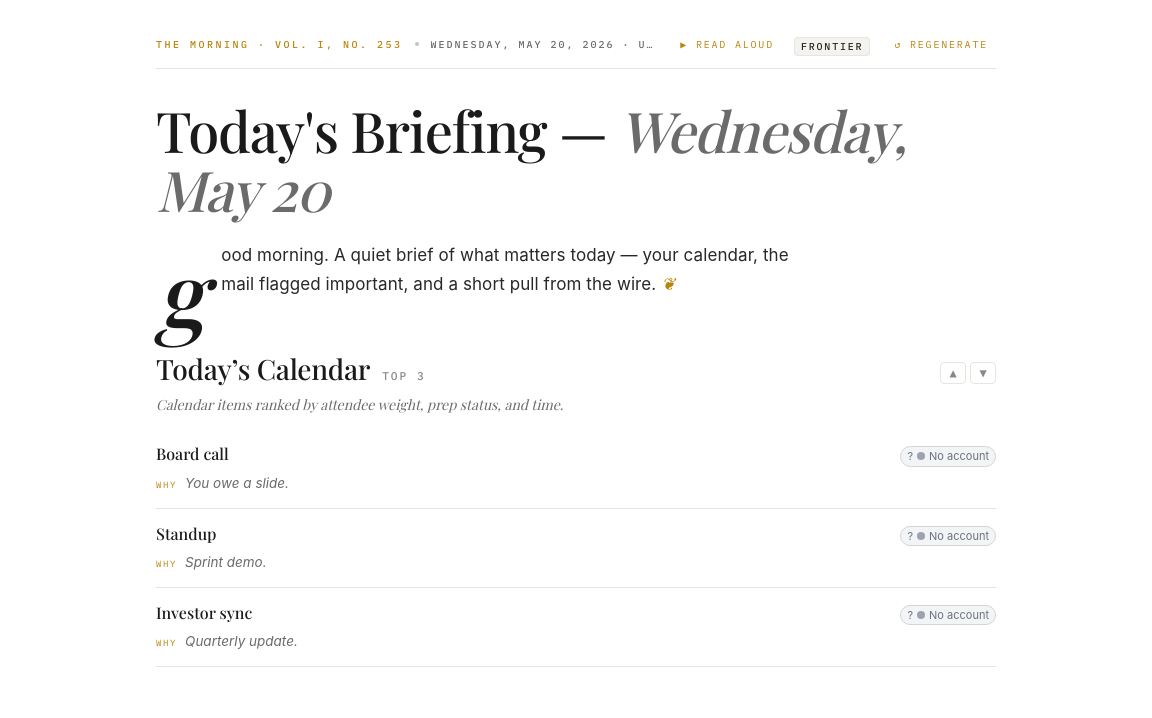
Test case: BriefingScreen › Case 11 — Regenerate error path surfaces inline alert (UAT Gap 8)
This screenshot has width=1152, height=718.
Click the button with test id "briefing-regenerate-btn": (941, 44) [886, 32, 996, 56]
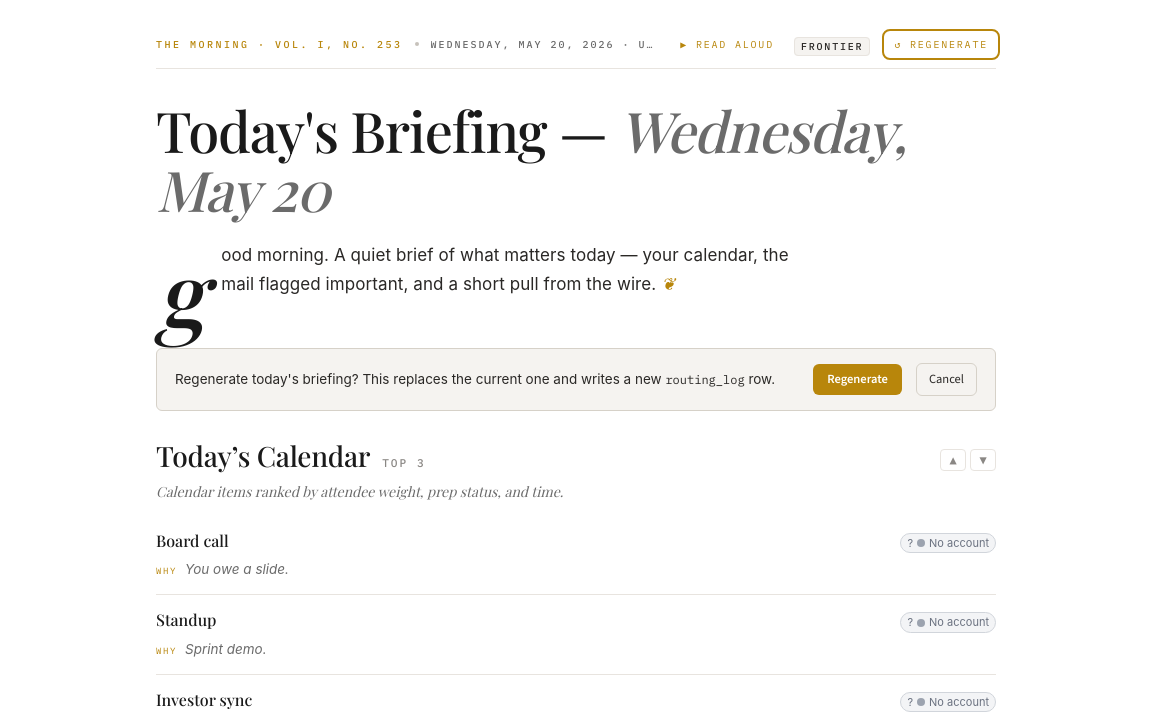
Click the button with test id "briefing-regenerate-confirm-btn": (858, 380) [813, 364, 902, 395]
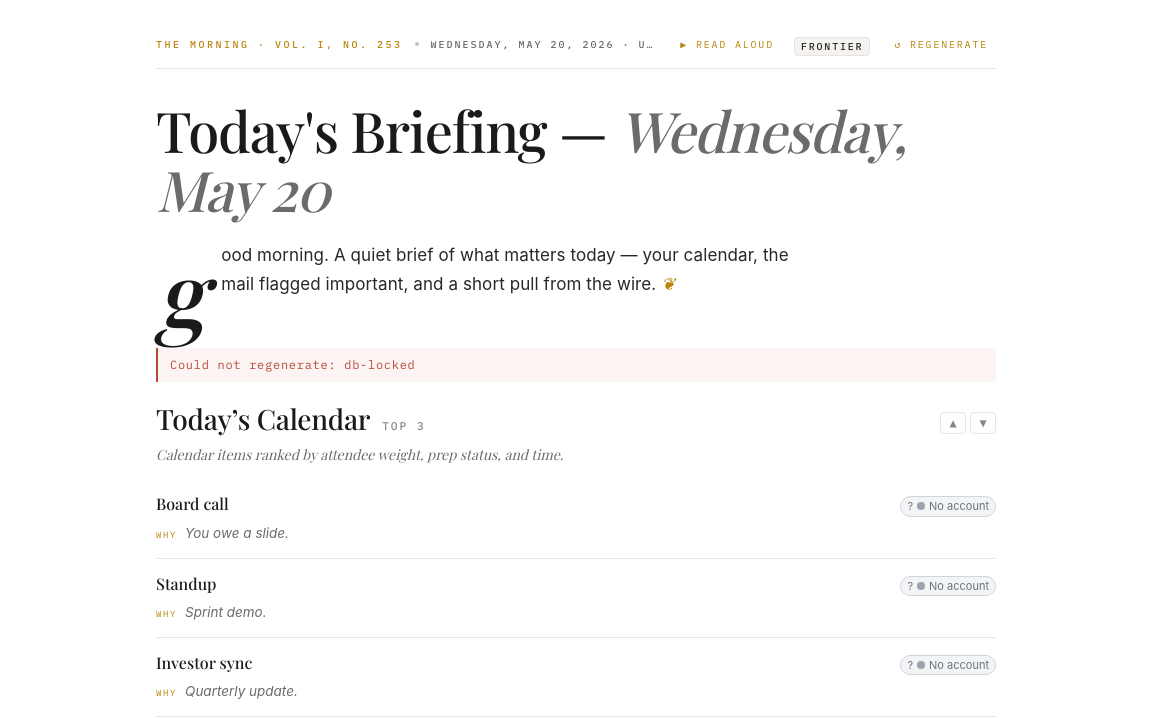
Expected: the message with test id "briefing-regenerate-error" shows "db-locked", [344, 357, 416, 372]
